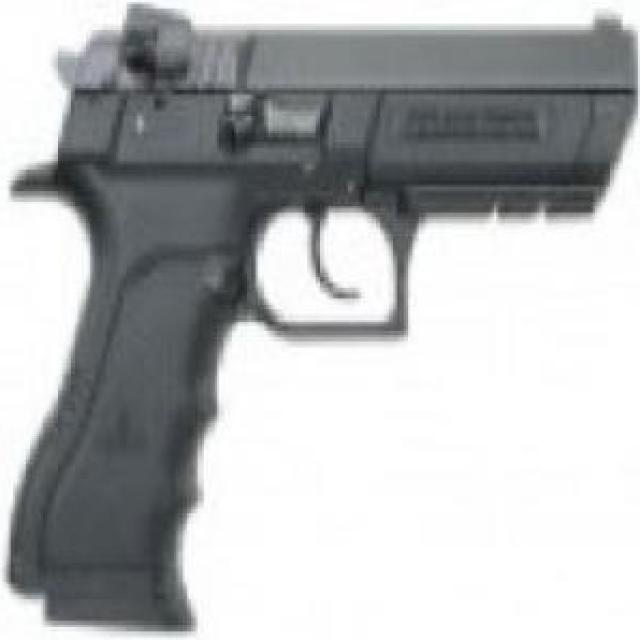pistol: (6, 4, 638, 638)
